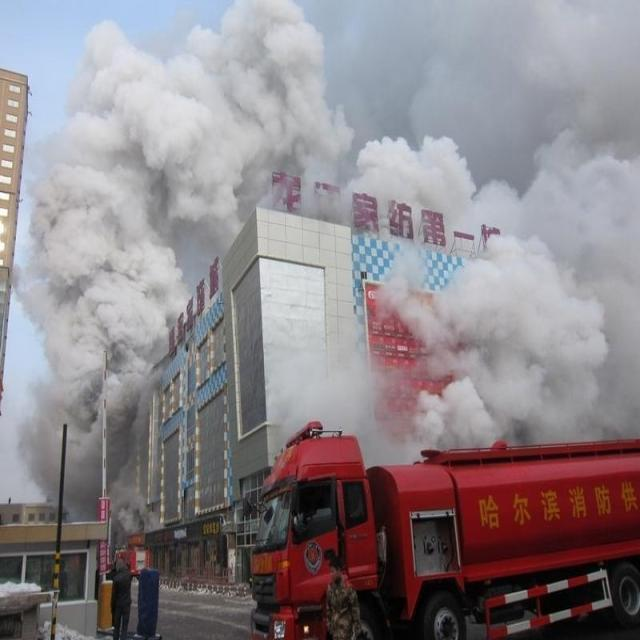Smoke: (332, 0, 640, 452), (13, 0, 196, 508), (139, 0, 357, 259), (268, 322, 419, 465)
